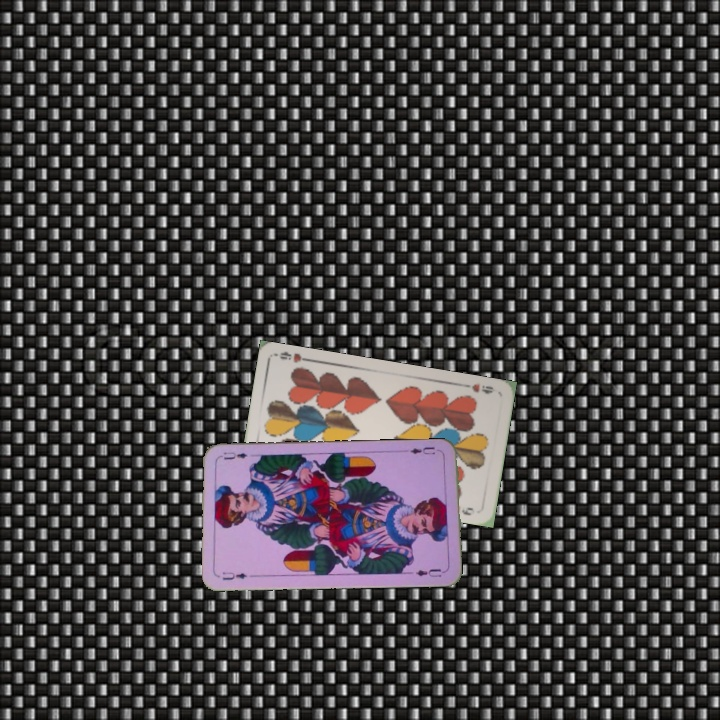EU: (218, 568, 257, 583), (403, 443, 437, 457)
H9: (459, 379, 497, 397)
